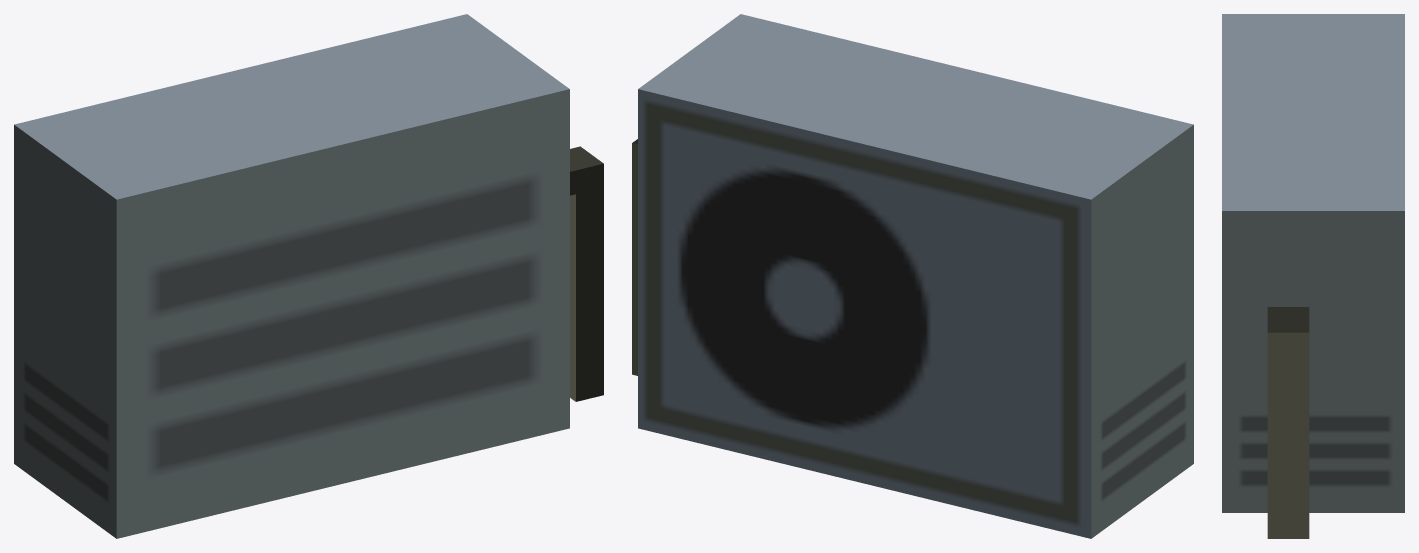
The model's file is Roof_AirConditioner.fbx.
3 views of the same model, side by side, from view 1: azimuth 30°, elevation 25°; view 2: azimuth 150°, elevation 25°; view 3: azimuth 270°, elevation 25° (orthographic). The views are drawn at different scales.
Visible parts, largest first — view 1: Roof_AirConditioner; view 2: Roof_AirConditioner; view 3: Roof_AirConditioner.
Boxes of the visible parts, x1,y1,x2,y2 form: Roof_AirConditioner: (14,14,603,538); Roof_AirConditioner: (632,14,1193,538); Roof_AirConditioner: (1222,14,1404,538).
Size of the model in its own units: 1.38 by 0.8743 by 0.4793.
